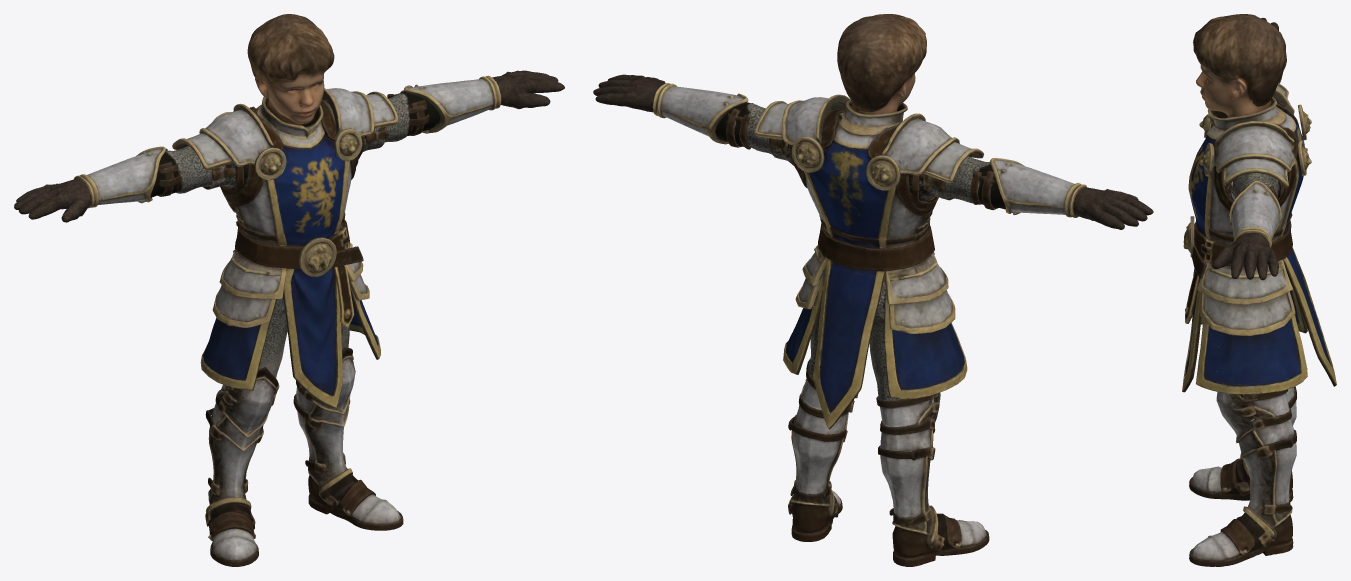
Rendered from brennanKingtFinal.glb.
3 renders of one model, left to right at view 1: azimuth 30°, elevation 25°; view 2: azimuth 150°, elevation 25°; view 3: azimuth 270°, elevation 25°, orthographic. The views are drawn at different scales.
Parts seen in each view (by area): view 1: world; view 2: world; view 3: world.
Part boxes in pixels (x1,y1,x2,y2): world: [14, 14, 564, 566]; world: [593, 14, 1153, 566]; world: [1182, 14, 1336, 566].
Bounding box in the file's own units: 0.9905 × 0.895 × 0.2494.
Materials: 1 (1 with a texture image).
